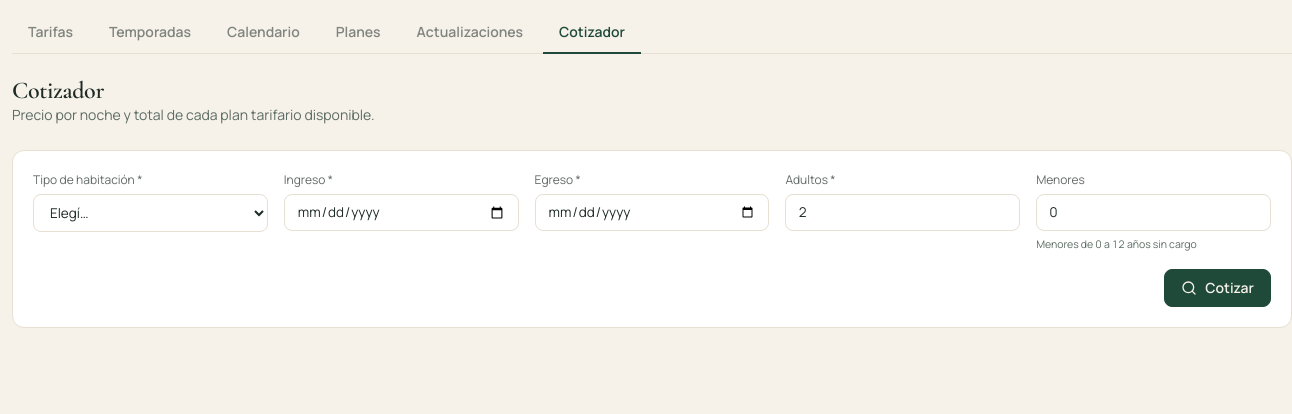
Test case: CotizadorPage › un error de negocio se muestra como mensaje legible, no como error técnico
Select "Doble" in the dropdown labelled "Tipo de habitación *" at (150, 213), box x1=33 y1=194 x2=268 y2=232
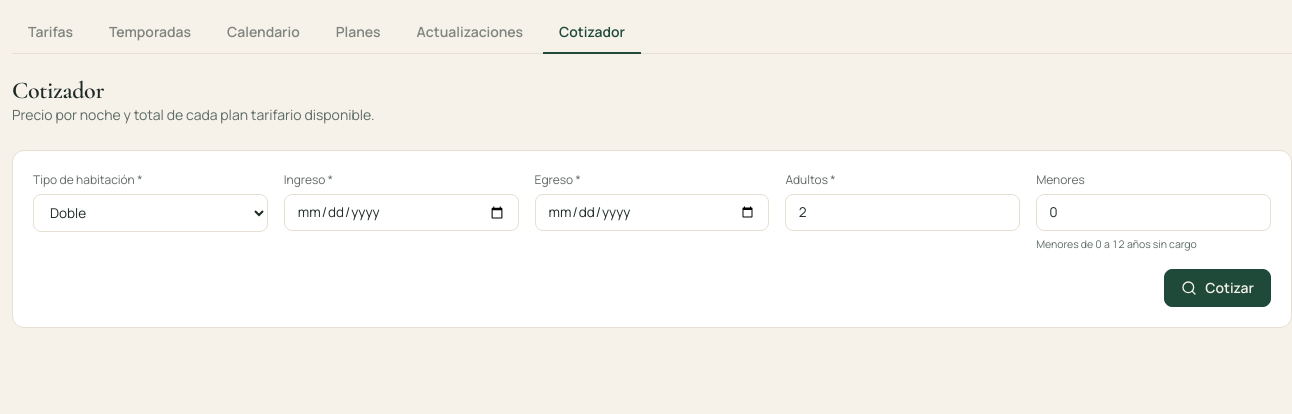
Type "2027-01-10" into the date field labelled "Ingreso *".
click(401, 212); type("2027-01-10")  # box x1=284 y1=194 x2=519 y2=231
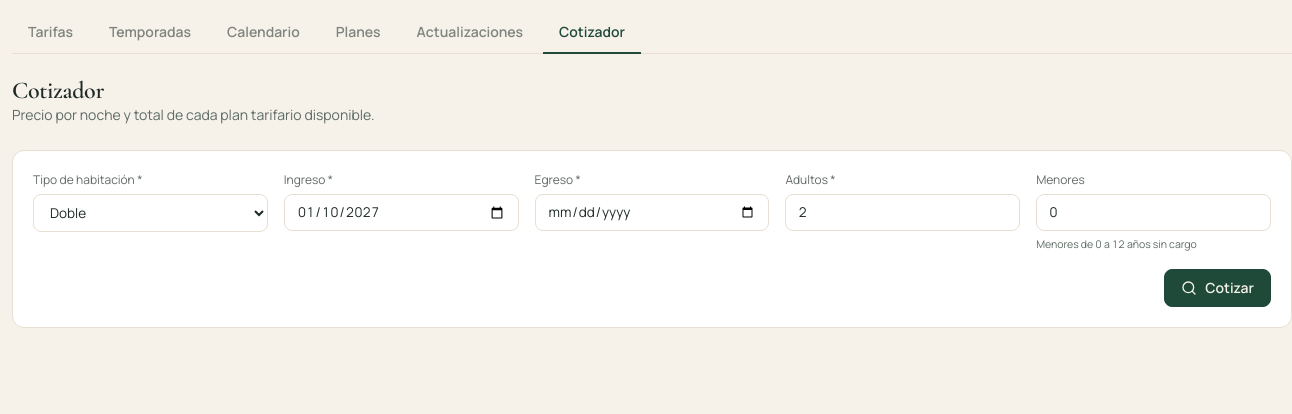
Type "2027-01-11" into the date field labelled "Egreso *".
click(652, 212); type("2027-01-11")  # box x1=535 y1=194 x2=769 y2=231
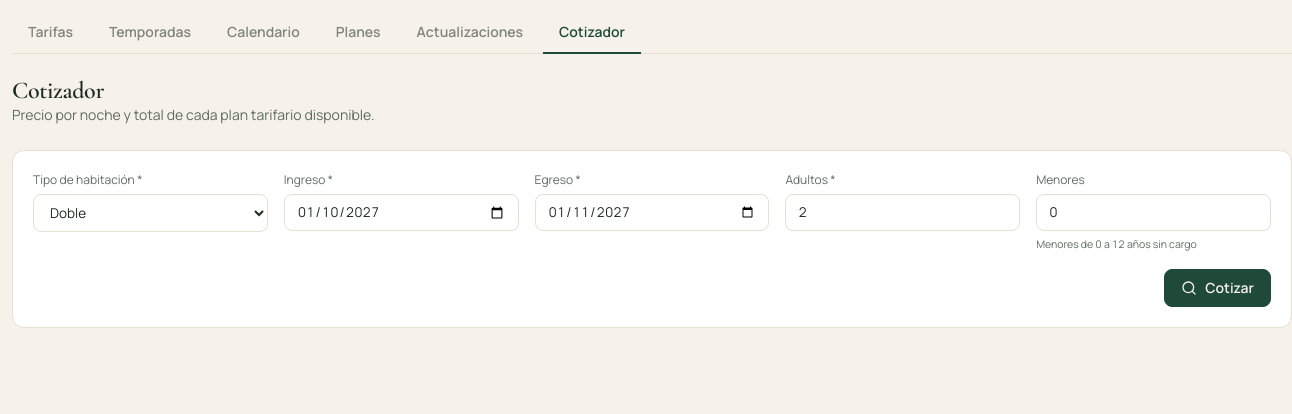
Click the button "Cotizar".
click(1218, 288)  # box x1=1164 y1=269 x2=1271 y2=307
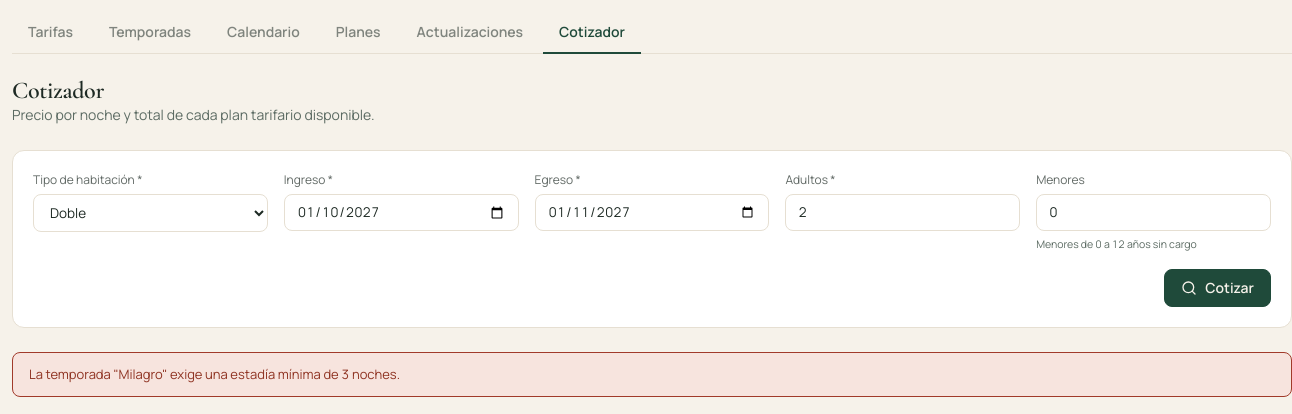
Expected: the text "La temporada \"Milagro\" exige una estadía mínima de 3 noches." is shown, x1=12 y1=352 x2=1291 y2=397
